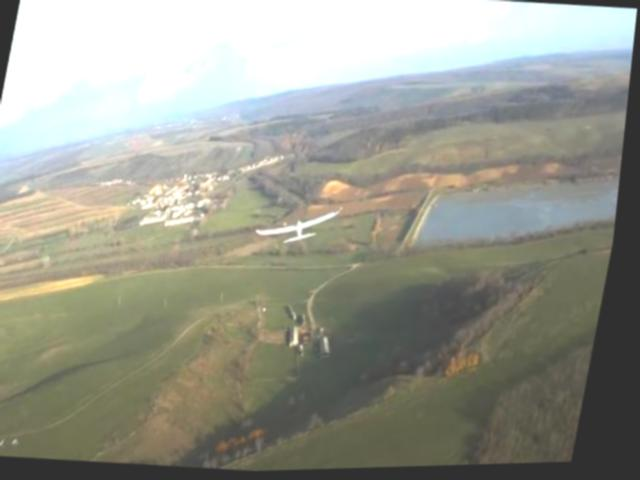iha: (255, 201, 353, 256)
